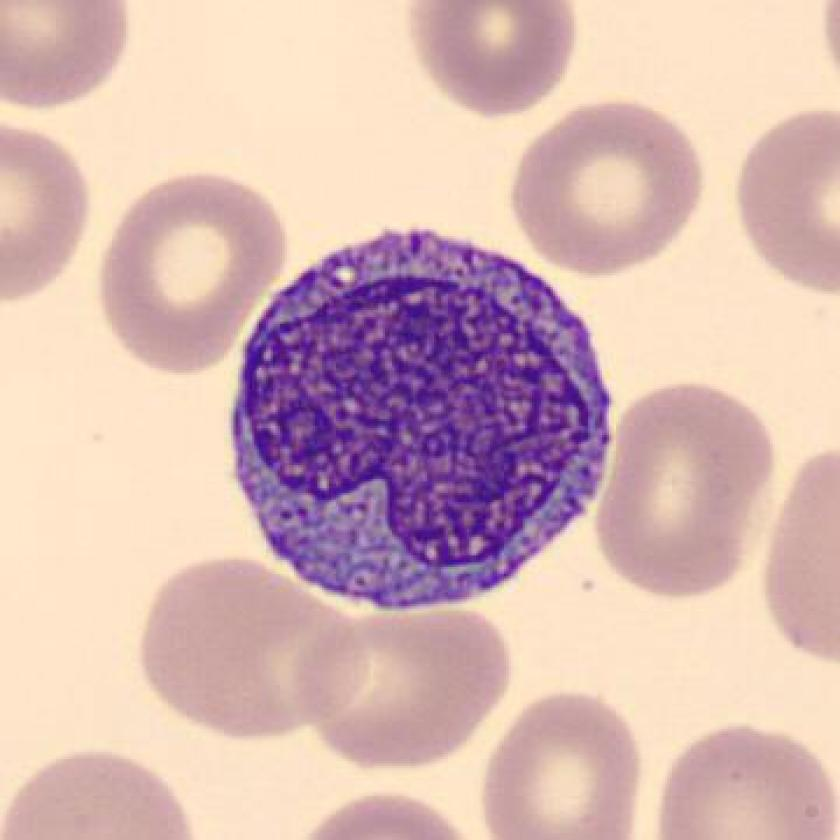monocyte: (202, 207, 640, 628)
